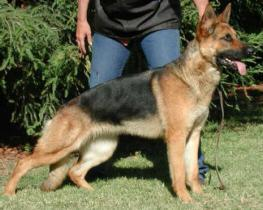German_shepherd: (0, 0, 256, 204)
